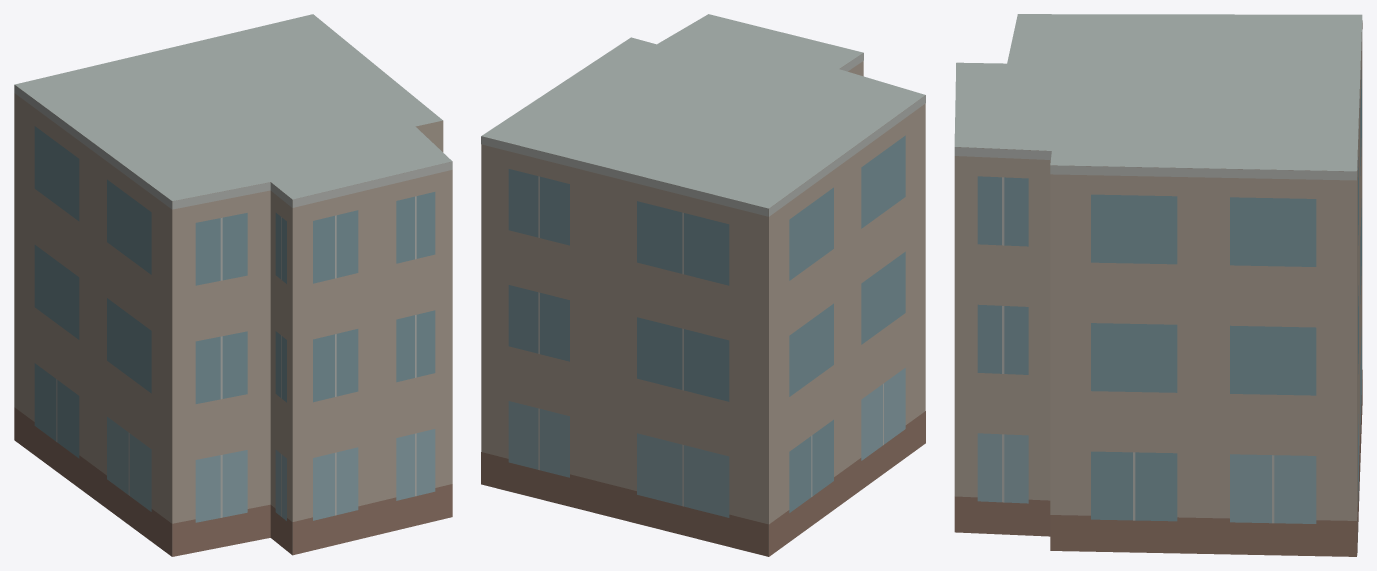
The model's file is survey-upis-32499090.glb.
3 views of the same model, side by side, from view 1: azimuth 30°, elevation 25°; view 2: azimuth 150°, elevation 25°; view 3: azimuth 270°, elevation 25° (orthographic). The views are drawn at different scales.
Parts seen in each view (by area): view 1: survey-upis-32499090.tmp; view 2: survey-upis-32499090.tmp; view 3: survey-upis-32499090.tmp.
Boxes of the visible parts, x1,y1,x2,y2 form: survey-upis-32499090.tmp: (14, 14, 452, 556); survey-upis-32499090.tmp: (481, 14, 925, 556); survey-upis-32499090.tmp: (954, 14, 1362, 556).
Size of the model in its own units: 9.03 by 10.3 by 9.89.
